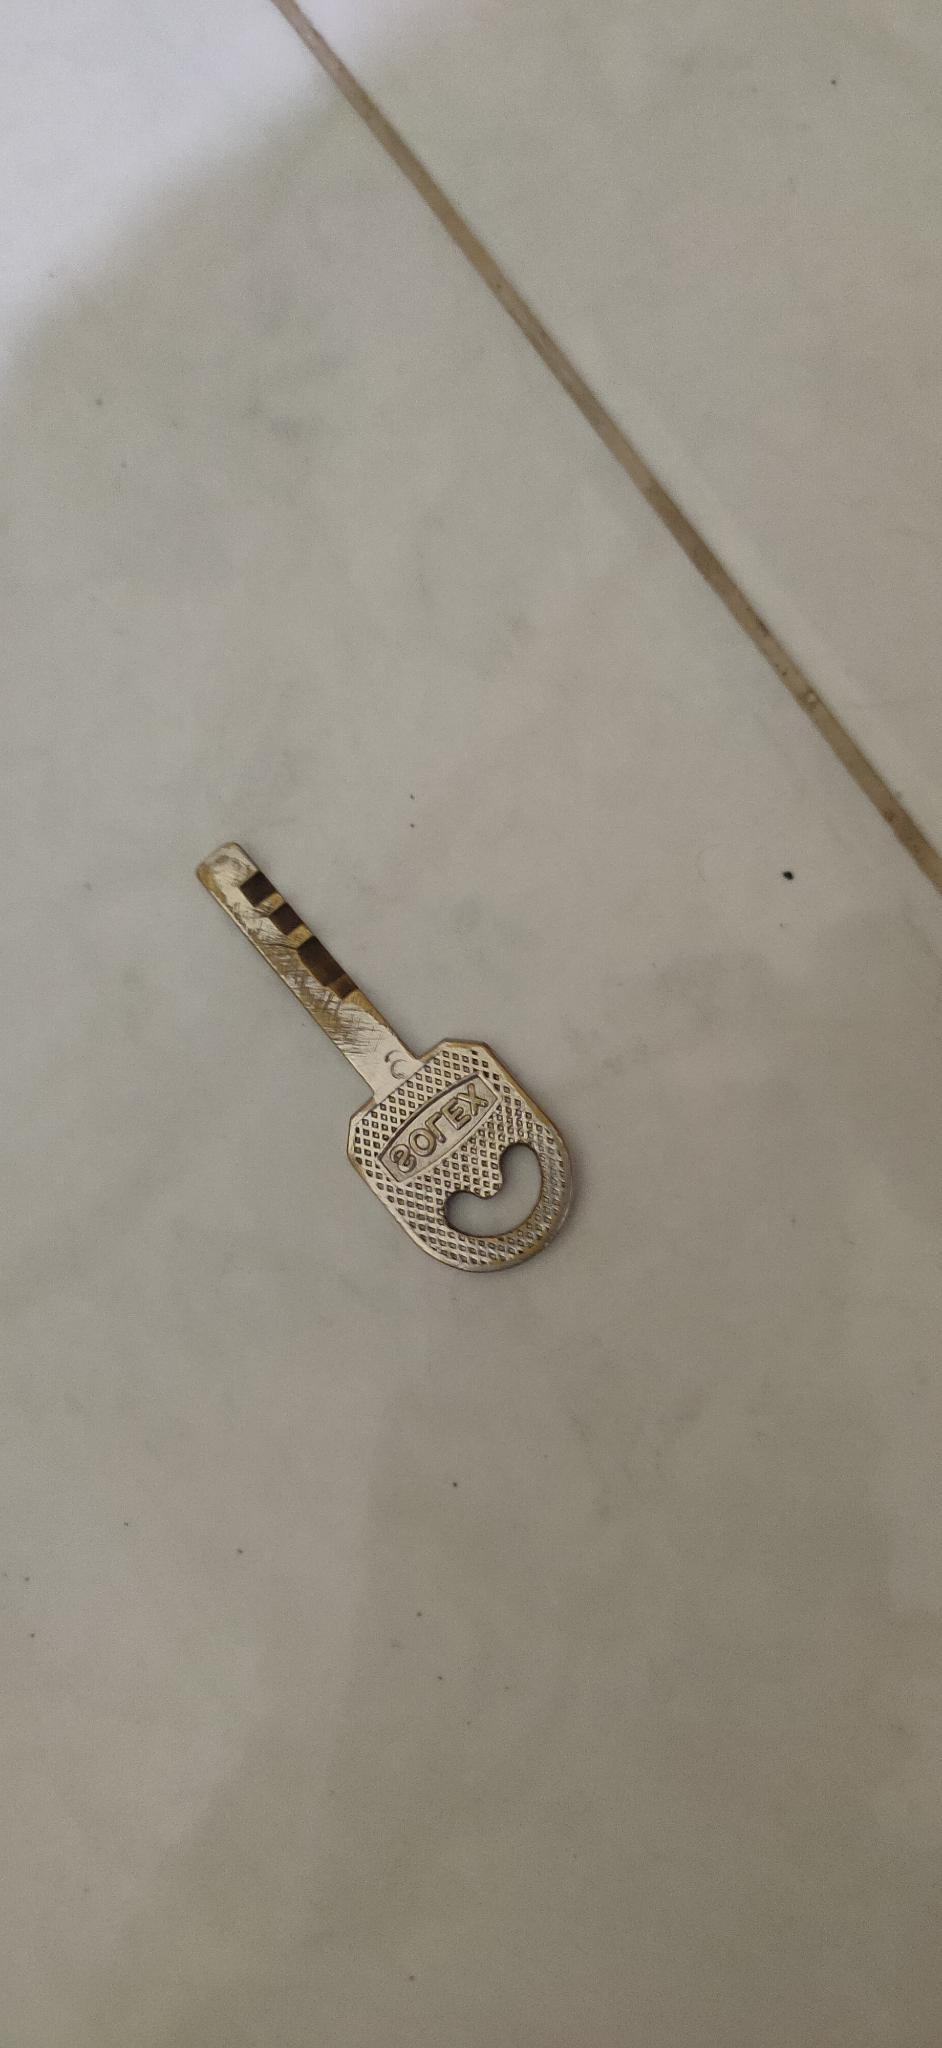keys: (175, 870, 575, 1320)
